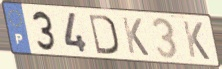3: (151, 17, 181, 61), (31, 10, 57, 53)
4: (63, 11, 91, 55)
D: (87, 12, 120, 56)
K: (181, 19, 212, 62), (120, 15, 151, 58)
